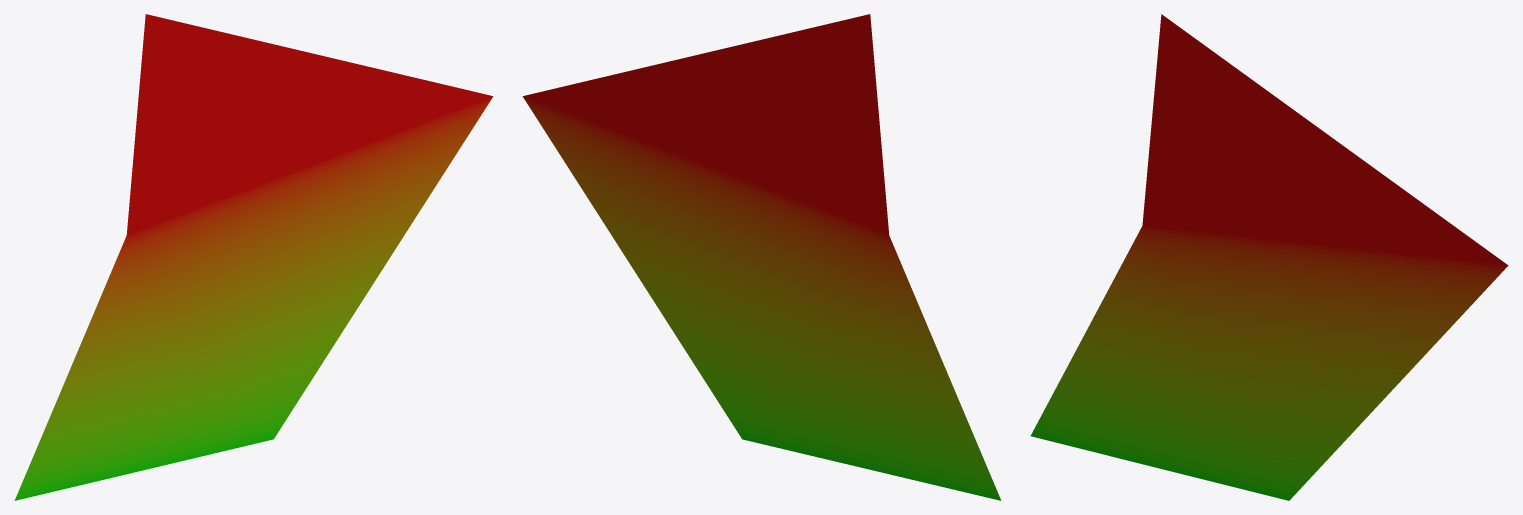
File: Sea Wheatgrass_LOD3_Var19_ui2oagjia.fbx
3 views of the same model, side by side, from view 1: azimuth 30°, elevation 25°; view 2: azimuth 150°, elevation 25°; view 3: azimuth 330°, elevation 25° (orthographic).
Visible parts, largest first — view 1: _4wew_Var19_LOD3; view 2: _4wew_Var19_LOD3; view 3: _4wew_Var19_LOD3.
Boxes of the visible parts, bbox=[...] form: _4wew_Var19_LOD3: bbox=[14, 14, 493, 500]; _4wew_Var19_LOD3: bbox=[522, 14, 1001, 500]; _4wew_Var19_LOD3: bbox=[1030, 14, 1508, 500].
Bounding box in the file's own units: 32.88 × 29.95 × 1.31e-06.
